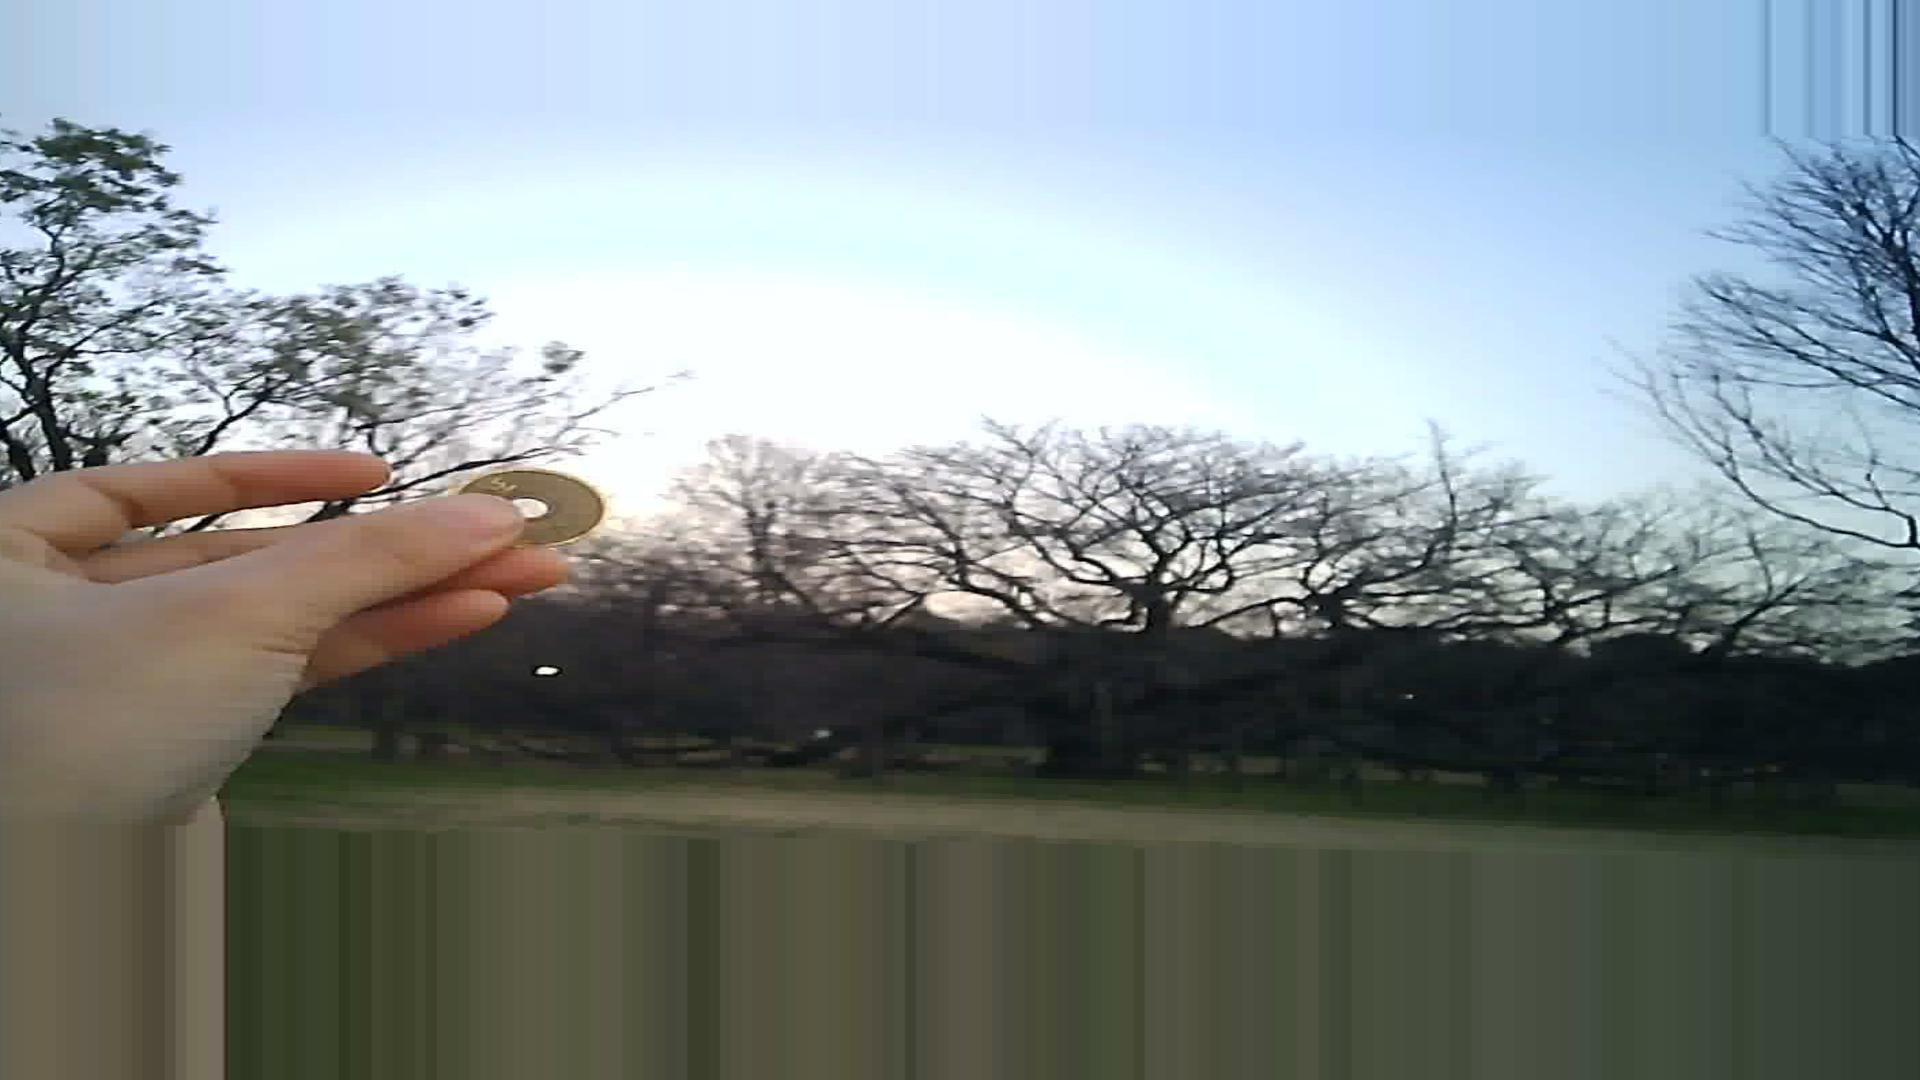5 Yen: (450, 459, 608, 545)
